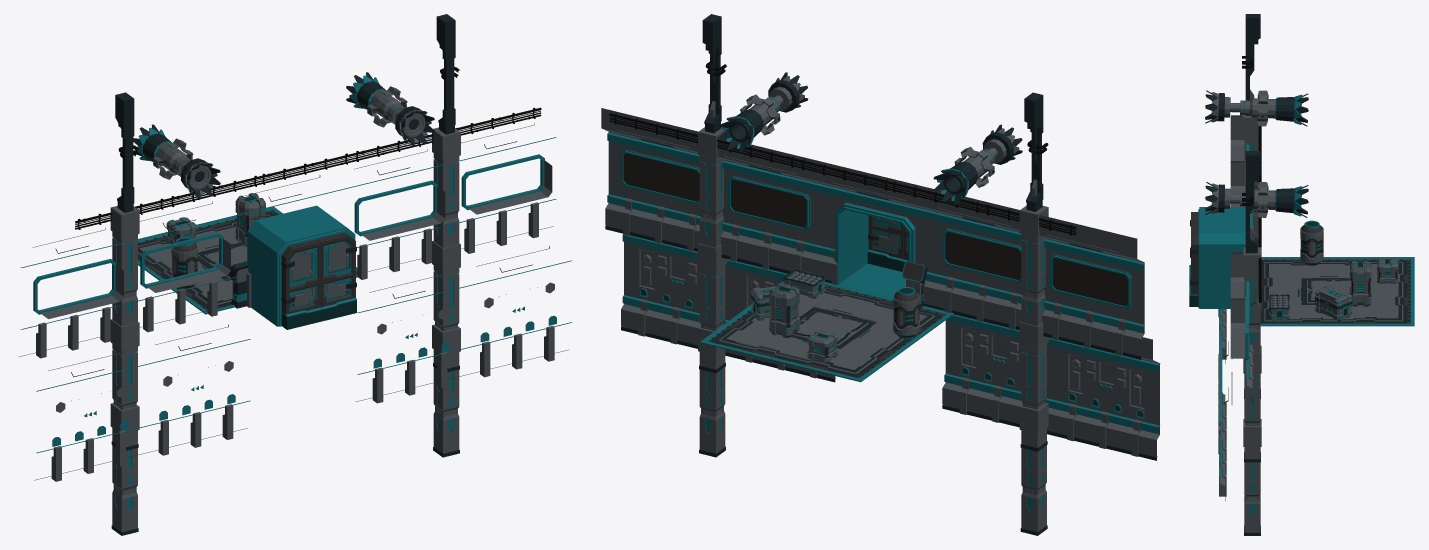
The picture shows the model from 3 angles, left to right: view 1: azimuth 30°, elevation 25°; view 2: azimuth 150°, elevation 25°; view 3: azimuth 270°, elevation 25°; orthographic projection. The views are drawn at different scales.
Visible parts, largest first — view 1: mergedBlocks(Clone); view 2: mergedBlocks(Clone); view 3: mergedBlocks(Clone).
Boxes of the visible parts, x1,y1,x2,y2 form: mergedBlocks(Clone): [19, 14, 571, 535]; mergedBlocks(Clone): [601, 14, 1160, 535]; mergedBlocks(Clone): [1189, 14, 1414, 535].
Bounding box in the file's own units: 20 × 15.46 × 8.34.
Materials: 1 (1 with a texture image).
